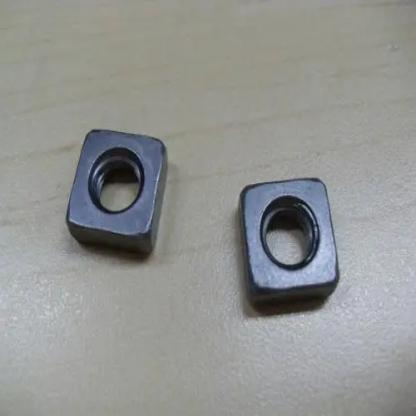FOD: (222, 166, 352, 324), (63, 114, 176, 268)
